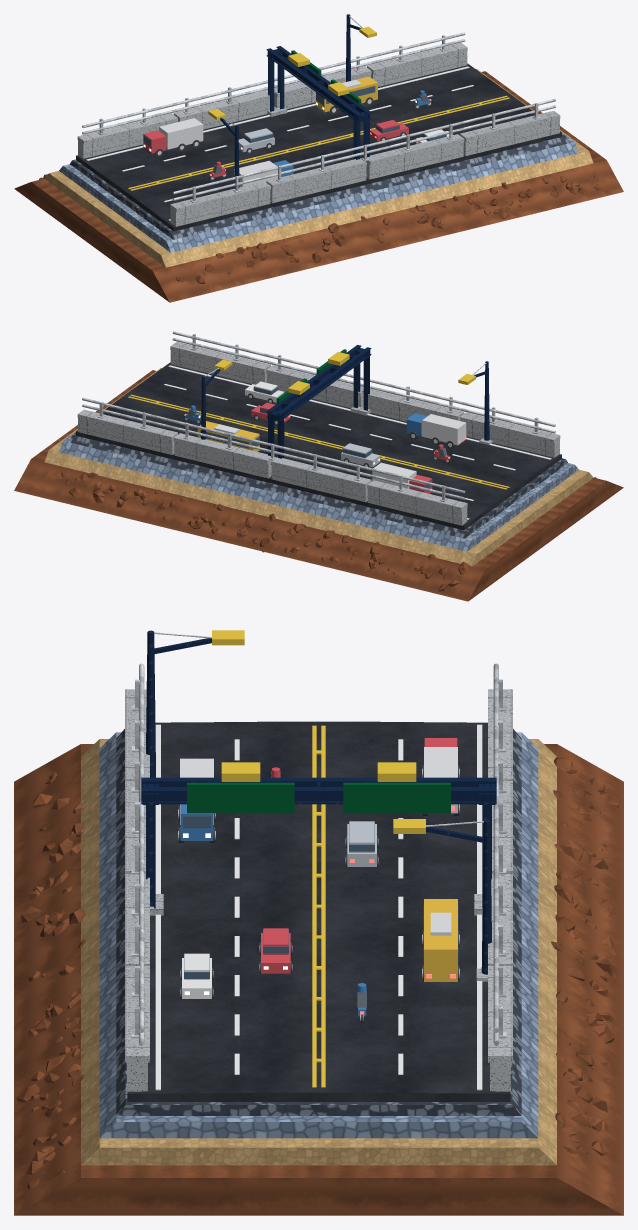
The model's file is rasta_highway.glb.
The picture shows the model from 3 angles, top to bottom: view 1: azimuth 30°, elevation 25°; view 2: azimuth 150°, elevation 25°; view 3: azimuth 270°, elevation 25°; orthographic projection. The views are drawn at different scales.
Visible parts, largest first — view 1: Highway_Barriers, Layer_01_Subgrade, Layer_05_BC_Carriageway, Layer_02_GSB, Layer_03_WMM, Layer_04_DBM, FWD_Sensor_Rig, Highway_Markings, Vehicle_08_Truck_Hauler, Survey_Beacons, Vehicle_02_Bus, Vehicle_01_Truck (+2 smaller); view 2: Highway_Barriers, Layer_01_Subgrade, Layer_05_BC_Carriageway, Layer_02_GSB, Layer_03_WMM, Layer_04_DBM, FWD_Sensor_Rig, Highway_Markings, Vehicle_01_Truck, Survey_Beacons, Vehicle_08_Truck_Hauler, Vehicle_02_Bus (+2 smaller); view 3: Layer_05_BC_Carriageway, Layer_01_Subgrade, Layer_02_GSB, Layer_03_WMM, Highway_Barriers, Layer_04_DBM, FWD_Sensor_Rig, Survey_Beacons, Highway_Markings, Vehicle_02_Bus, Vehicle_01_Truck, Vehicle_08_Truck_Hauler (+3 smaller).
Part boxes in pixels (left/top/right/bottom): Highway_Barriers: left=77, top=32, right=560, bottom=226; Layer_01_Subgrade: left=14, top=71, right=623, bottom=302; Layer_05_BC_Carriageway: left=76, top=63, right=561, bottom=231; Layer_02_GSB: left=44, top=69, right=593, bottom=267; Layer_03_WMM: left=59, top=133, right=578, bottom=252; Layer_04_DBM: left=70, top=133, right=567, bottom=239; FWD_Sensor_Rig: left=220, top=14, right=371, bottom=188; Highway_Markings: left=86, top=66, right=509, bottom=220; Vehicle_08_Truck_Hauler: left=143, top=118, right=203, bottom=156; Survey_Beacons: left=156, top=26, right=481, bottom=183; Vehicle_02_Bus: left=316, top=76, right=377, bottom=114; Vehicle_01_Truck: left=234, top=160, right=293, bottom=187; Highway_Barriers: left=77, top=331, right=560, bottom=525; Layer_01_Subgrade: left=14, top=370, right=623, bottom=601; Layer_05_BC_Carriageway: left=76, top=362, right=561, bottom=530; Layer_02_GSB: left=44, top=368, right=593, bottom=566; Layer_03_WMM: left=59, top=431, right=578, bottom=551; Layer_04_DBM: left=70, top=432, right=567, bottom=538; FWD_Sensor_Rig: left=201, top=345, right=492, bottom=476; Highway_Markings: left=128, top=365, right=551, bottom=519; Vehicle_01_Truck: left=406, top=413, right=466, bottom=448; Survey_Beacons: left=156, top=349, right=481, bottom=481; Vehicle_08_Truck_Hauler: left=372, top=462, right=432, bottom=493; Vehicle_02_Bus: left=197, top=421, right=259, bottom=451; Layer_05_BC_Carriageway: left=127, top=721, right=510, bottom=1101; Layer_01_Subgrade: left=14, top=744, right=623, bottom=1215; Layer_02_GSB: left=81, top=739, right=556, bottom=1165; Layer_03_WMM: left=99, top=732, right=538, bottom=1138; Highway_Barriers: left=125, top=663, right=512, bottom=1091; Layer_04_DBM: left=116, top=729, right=521, bottom=1115; FWD_Sensor_Rig: left=141, top=630, right=496, bottom=981; Survey_Beacons: left=187, top=630, right=450, bottom=1062; Highway_Markings: left=155, top=724, right=482, bottom=1090; Vehicle_02_Bus: left=422, top=899, right=459, bottom=981; Vehicle_01_Truck: left=178, top=758, right=215, bottom=843; Vehicle_08_Truck_Hauler: left=422, top=738, right=459, bottom=816.
Size of the model in its own units: 13.8 by 3.81 by 8.2.
Materials: 23 (9 with a texture image).
